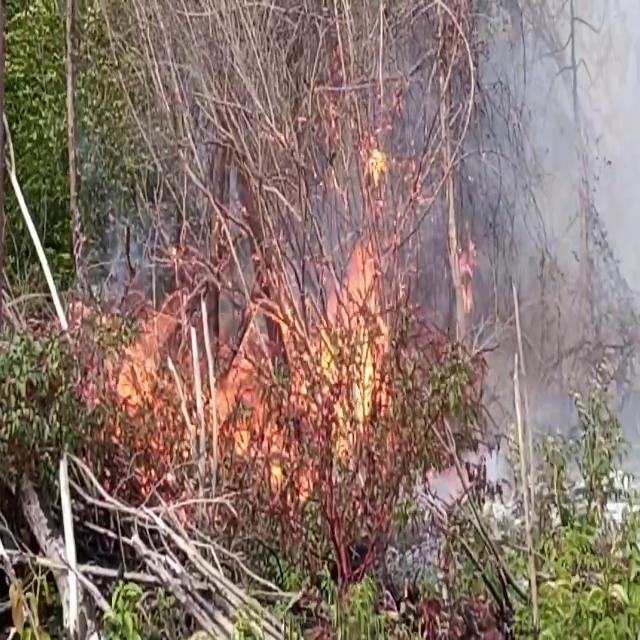Fire: (110, 118, 404, 502)
Smoke: (458, 2, 640, 504)
